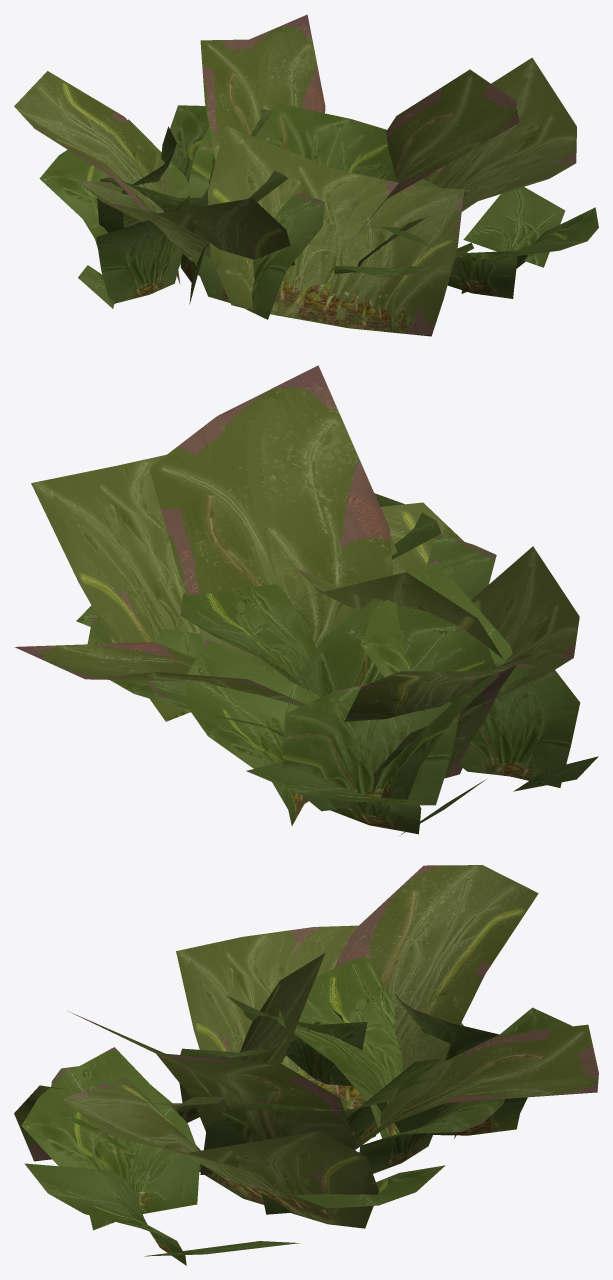
File: SM_Fol_Grass_Set7.fbx
3 views of the same model, one above another, from view 1: azimuth 30°, elevation 25°; view 2: azimuth 150°, elevation 25°; view 3: azimuth 270°, elevation 25° (orthographic). The views are drawn at different scales.
Visible parts, largest first — view 1: SM_Fol_Grass_Set7; view 2: SM_Fol_Grass_Set7; view 3: SM_Fol_Grass_Set7.
Part boxes in pixels (x1=…): SM_Fol_Grass_Set7: x1=14, y1=14, x2=598, y2=336; SM_Fol_Grass_Set7: x1=14, y1=365, x2=598, y2=835; SM_Fol_Grass_Set7: x1=14, y1=865, x2=598, y2=1265.
Size of the model in its own units: 124 by 119 by 51.5.
1 material, 1 textured.
